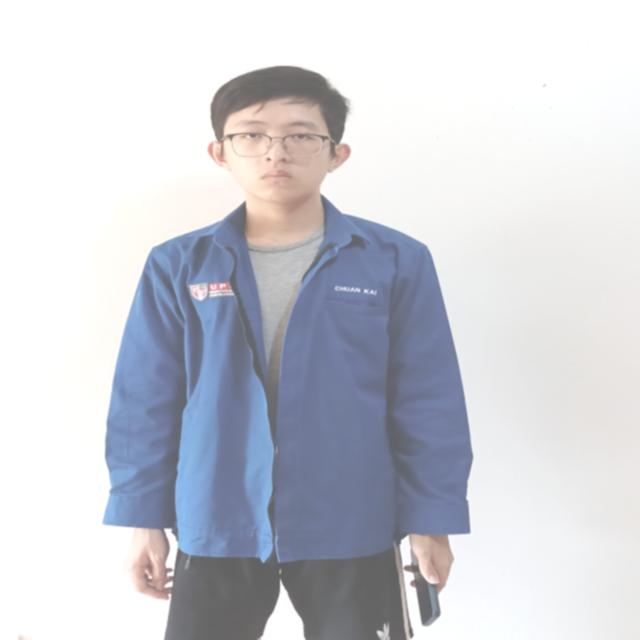person_with_labcoat: (104, 66, 472, 640)
